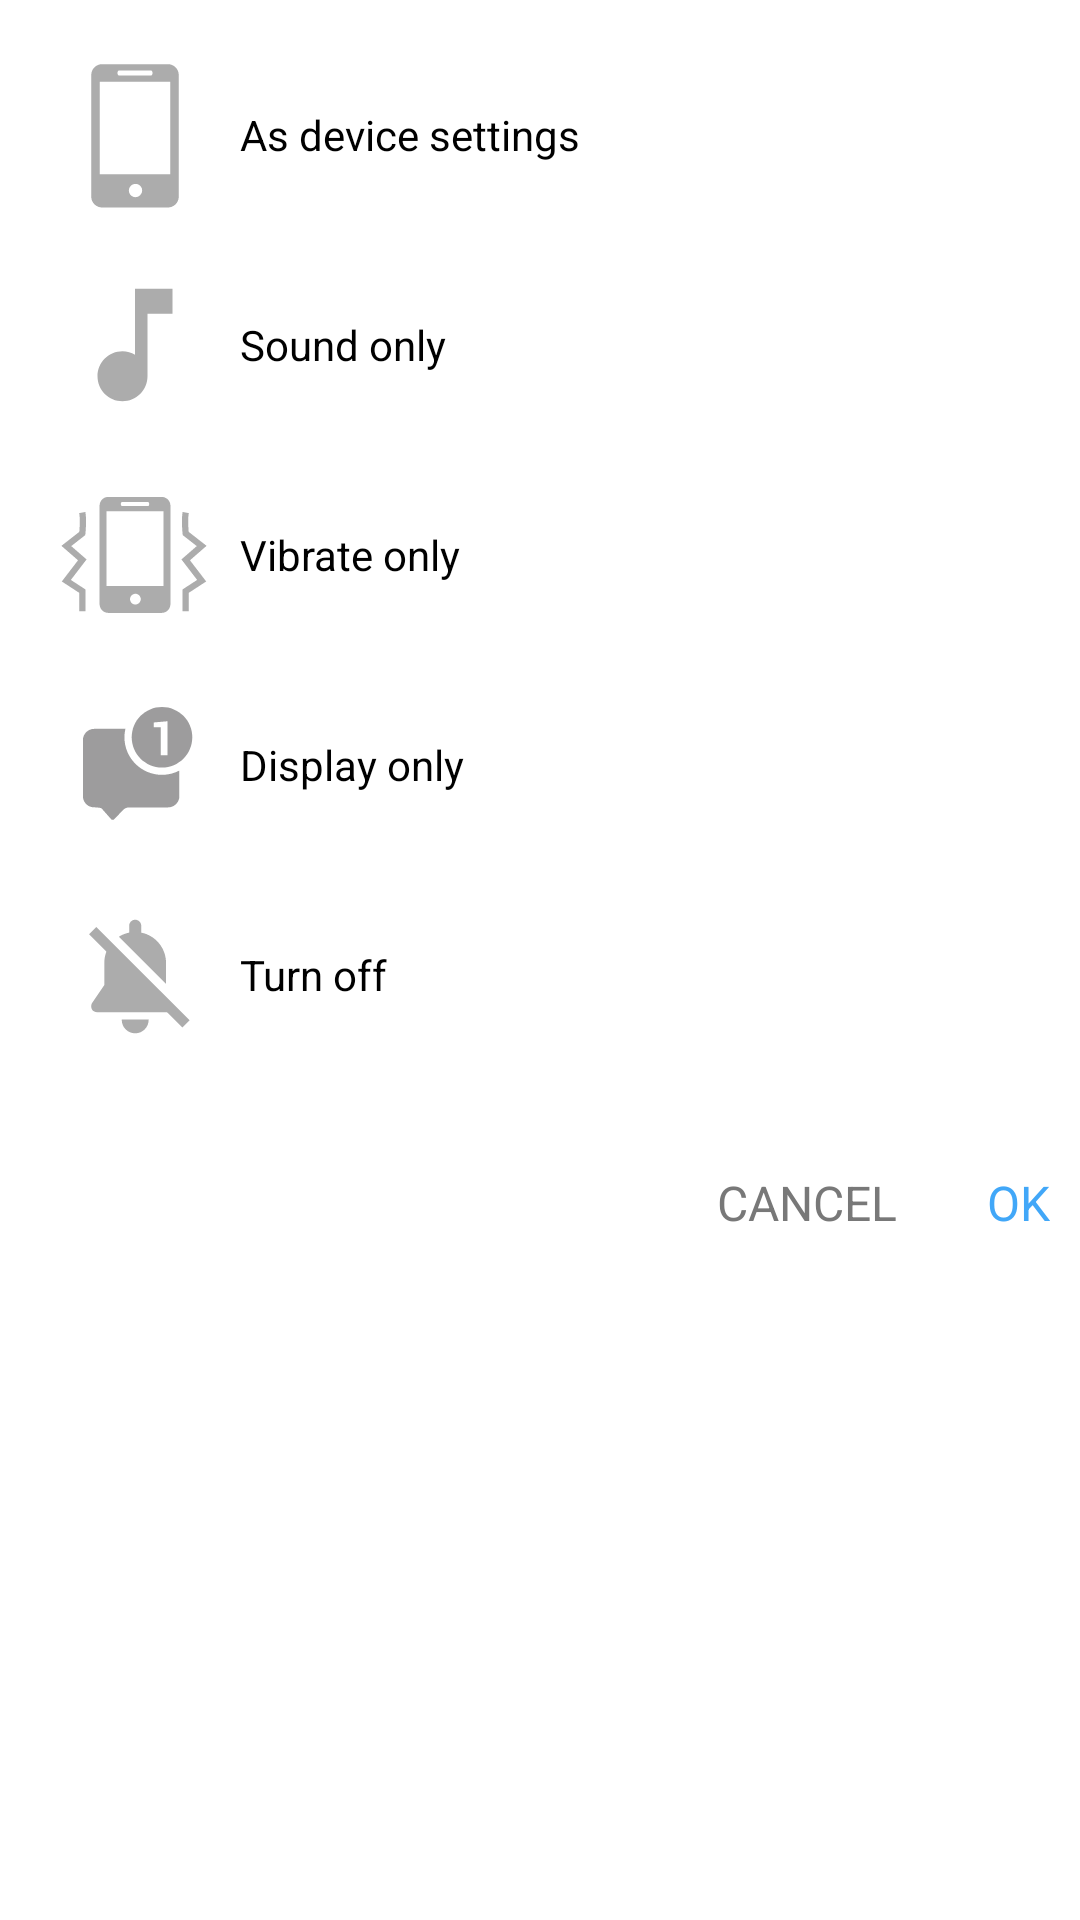

Where to tap for icons on this 1080w x 1920h app screen, as [x,y]:
mode as device: [135,136]
